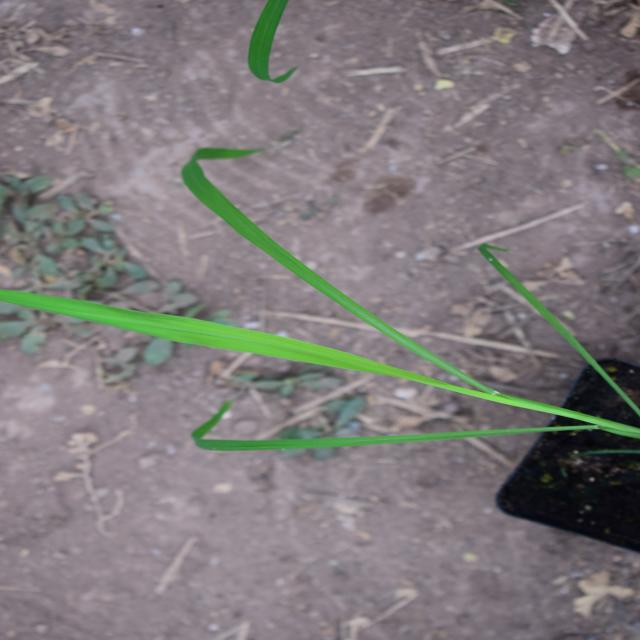barnyard_grass: (158, 0, 448, 514)
